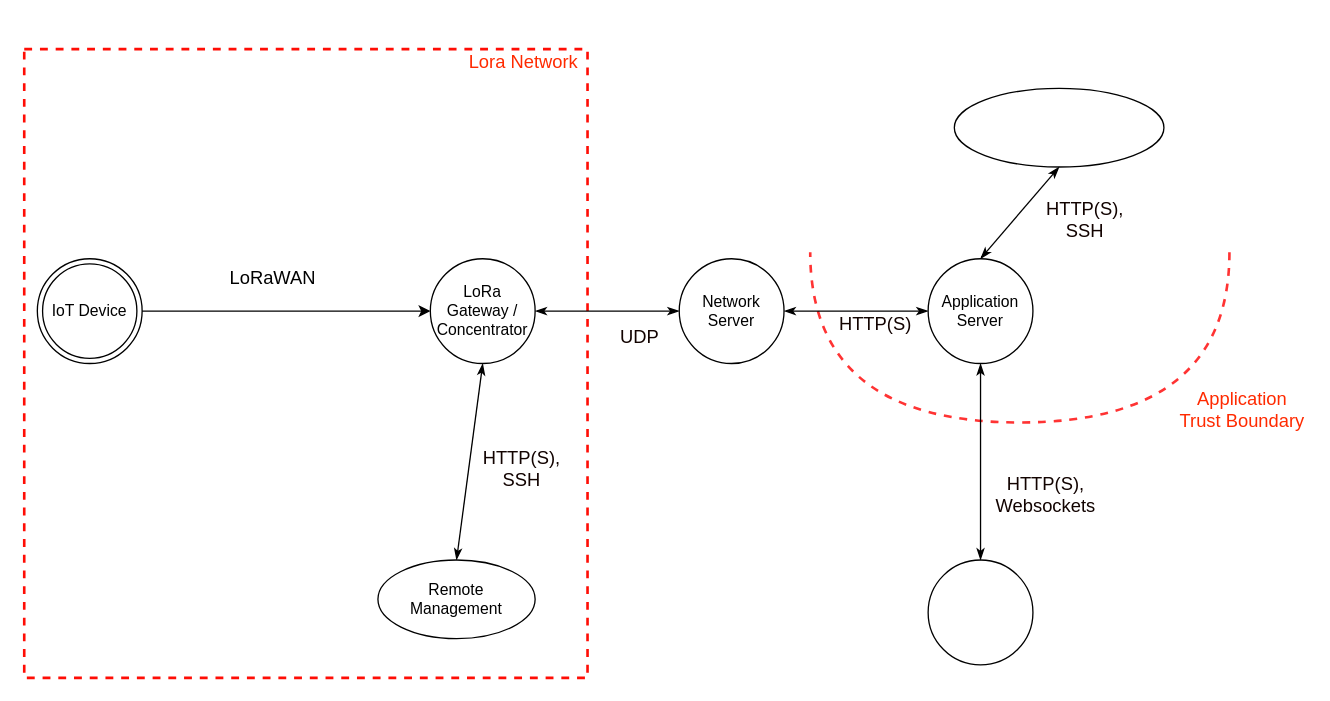
Image size: 1330x701. Some labels were removed from this diagram. The centre of each missing label's shape, as x and y in pixels:
"Remote Administration" goes at point 1058,127.
"User Device" goes at point 980,612.
